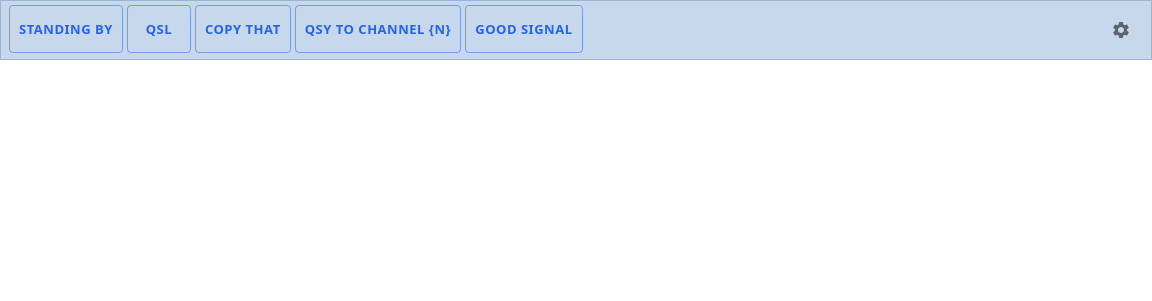
Test: QuickMessages › edit mode › exits edit mode when DONE is clicked
Step 1. Click the button named "edit quick messages" → (1121, 30), box [1099,8,1143,52]
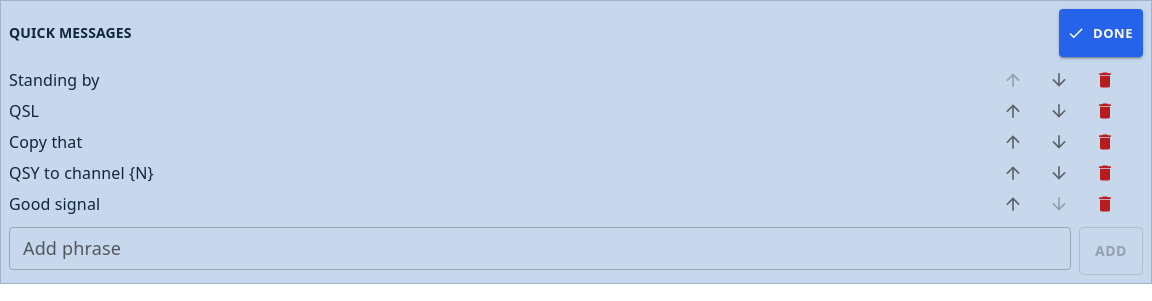
Step 2. Click the button "DONE" → (1101, 33), box [1059,9,1143,57]
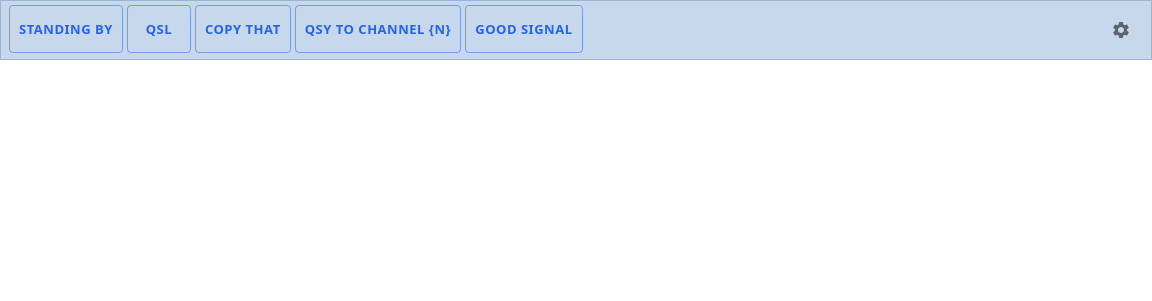
expect the button "DONE" is gone: met
expect the button named "edit quick messages" is shown: met, box [1099,8,1143,52]
